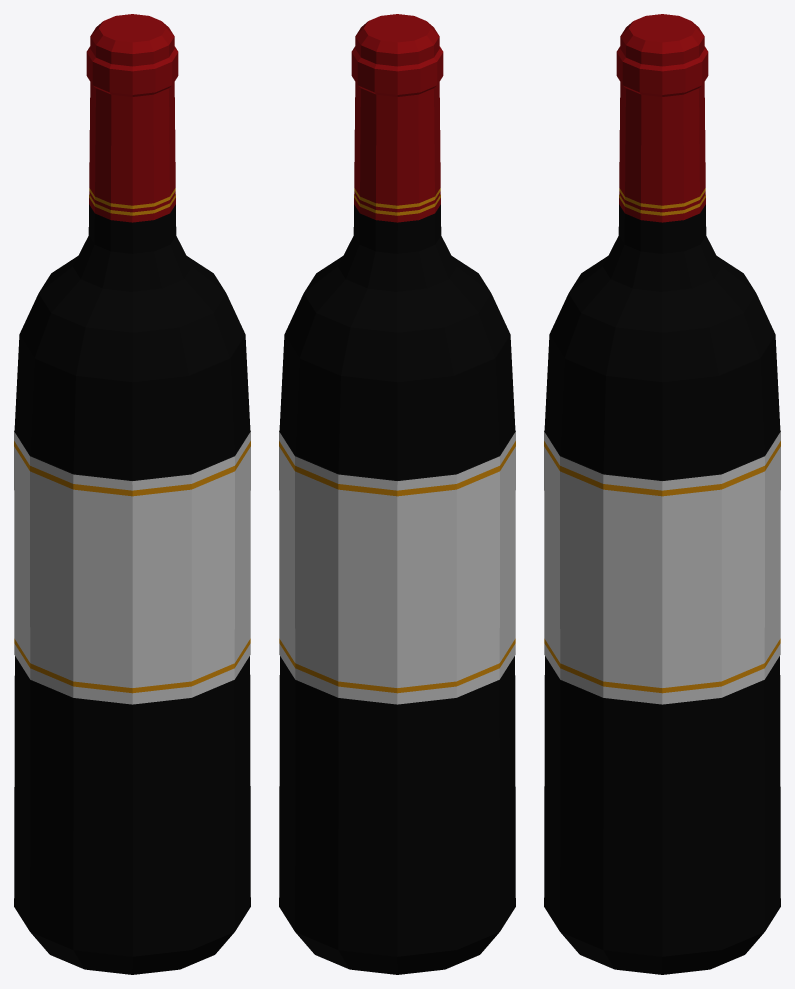
Rendered from NAOMI_wine.glb.
The picture shows the model from 3 angles, left to right: view 1: azimuth 30°, elevation 25°; view 2: azimuth 150°, elevation 25°; view 3: azimuth 270°, elevation 25°; orthographic projection.
Visible parts, largest first — view 1: Wine_Cylinder.001; view 2: Wine_Cylinder.001; view 3: Wine_Cylinder.001.
Part boxes in pixels (bbox=[...]): Wine_Cylinder.001: bbox=[14, 14, 250, 974]; Wine_Cylinder.001: bbox=[279, 14, 515, 974]; Wine_Cylinder.001: bbox=[544, 14, 780, 974].
Size of the model in its own units: 0.2063 by 0.8796 by 0.2063.
